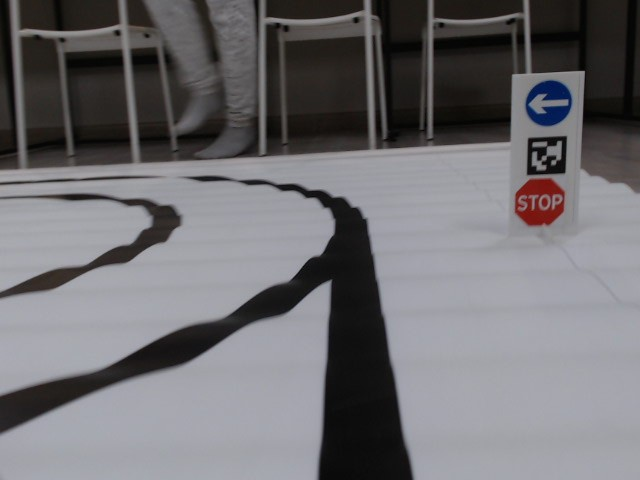Stop: (515, 178, 564, 227)
